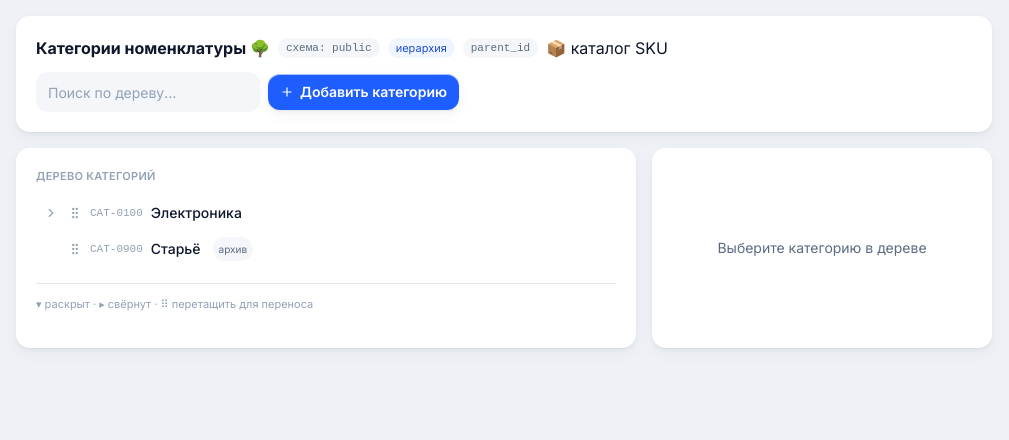
Scenario: SpravCategories › форма добавления валидирует пустые поля и не зовёт API
Click the button "Добавить категорию" at (364, 92), box [268,74,459,110]
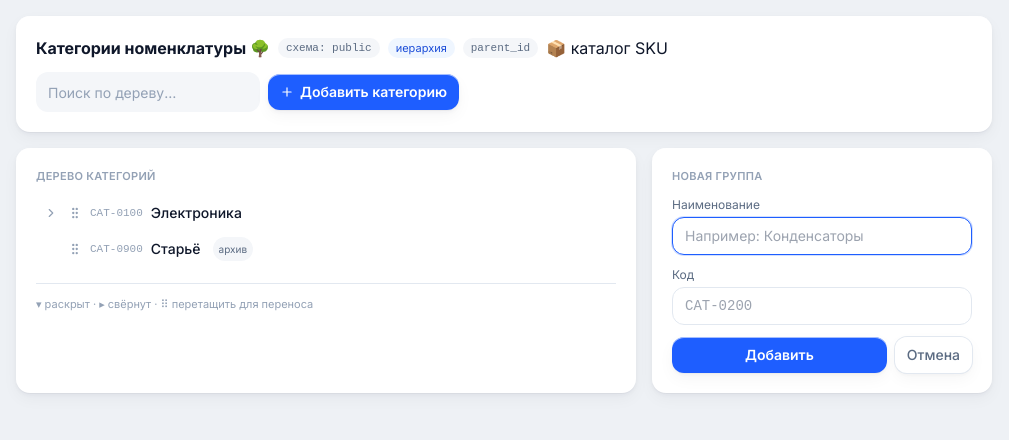
Click the button "Добавить" at (779, 354), box [672,336,887,372]
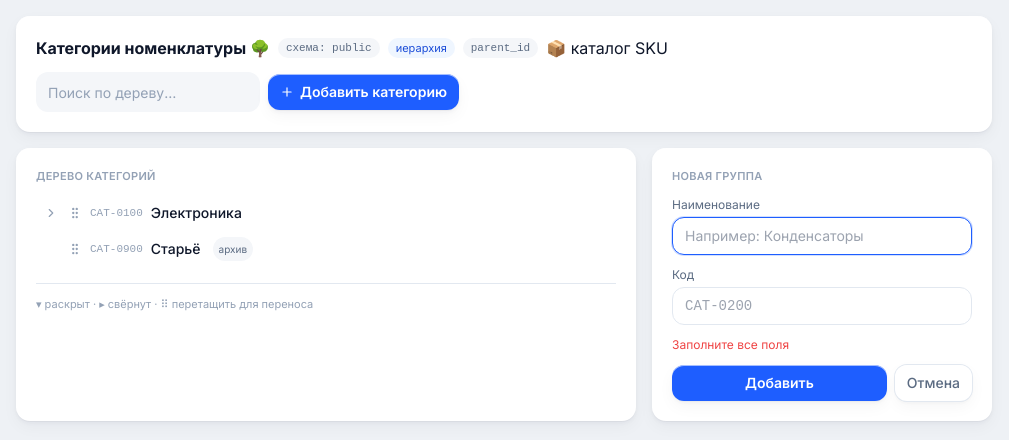
Expected: the text "Заполните все поля" is shown, [672,336,789,352]
